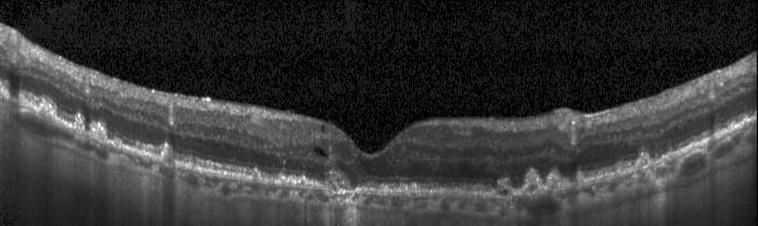intraretinal_cyst: (313, 146, 328, 158), (320, 124, 325, 134)
subretinal_fluid: (525, 184, 538, 192), (549, 178, 558, 188), (165, 152, 173, 162), (253, 172, 259, 181), (640, 159, 647, 166), (499, 189, 507, 195)
subretinal_hyperreflective_material: (252, 167, 354, 190), (62, 114, 107, 140)
